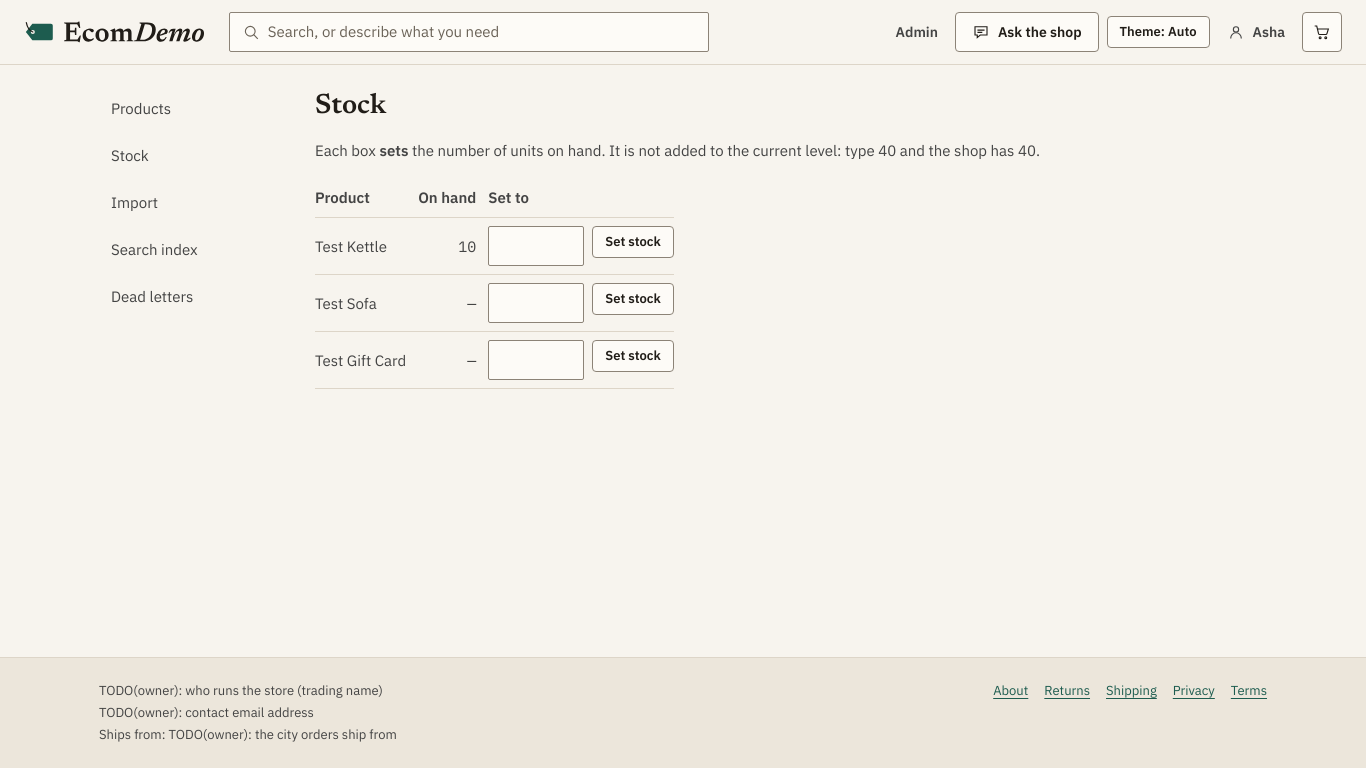
Test case: stock › refuses -3 without asking the server
Type "-3" into the field named "New level for Test Kettle" at (536, 246), box [501,227,571,265]
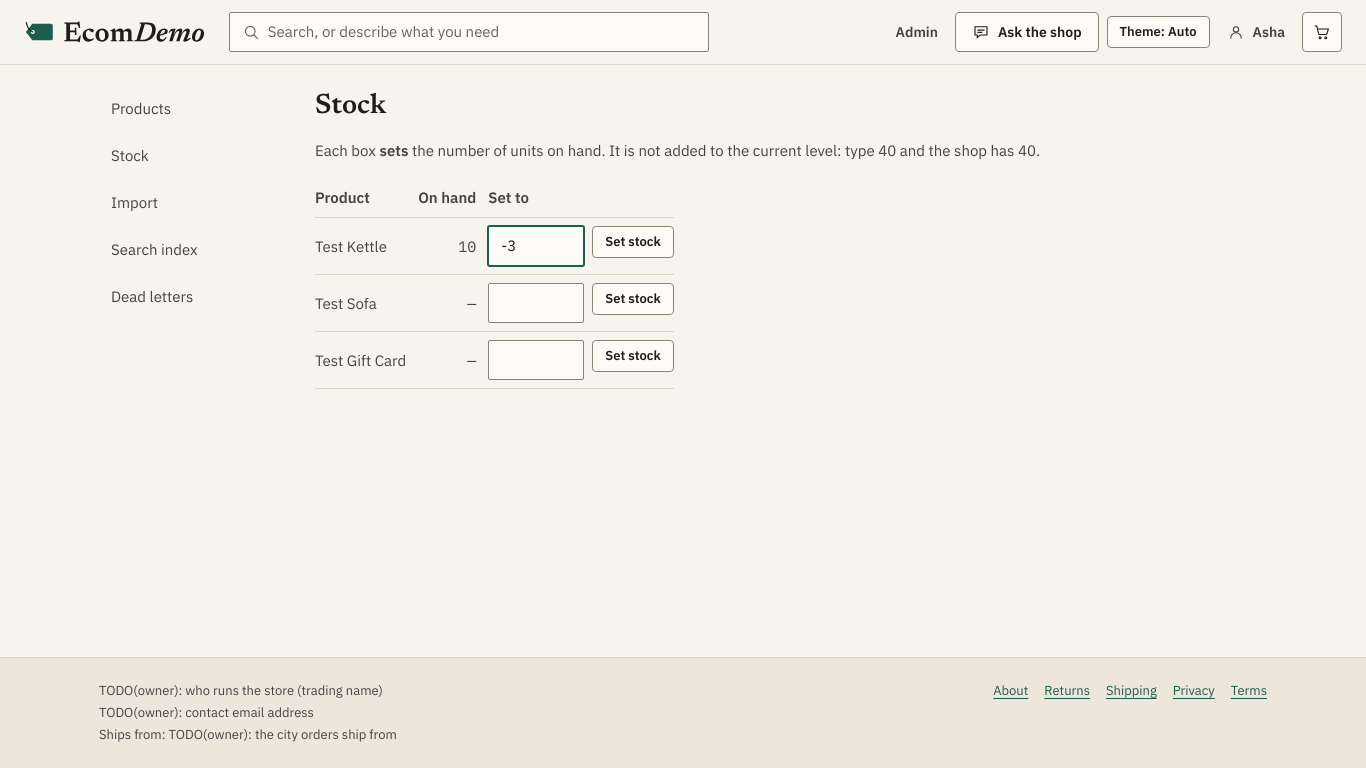
Click the button "Set stock" in the row of "Test Kettle" at (633, 242), box [592,226,674,258]
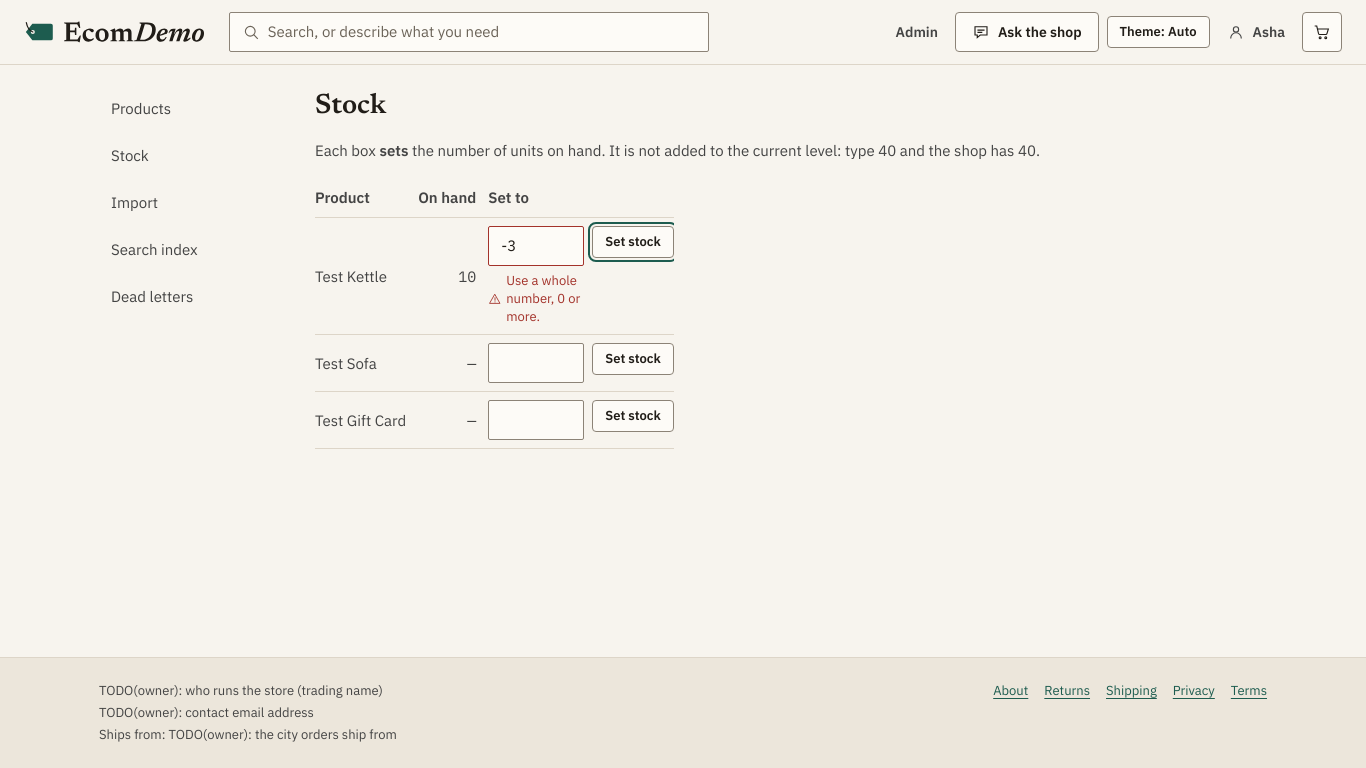
Expected: the text "Use a whole number, 0 or more." is shown, [488,272,584,326]
